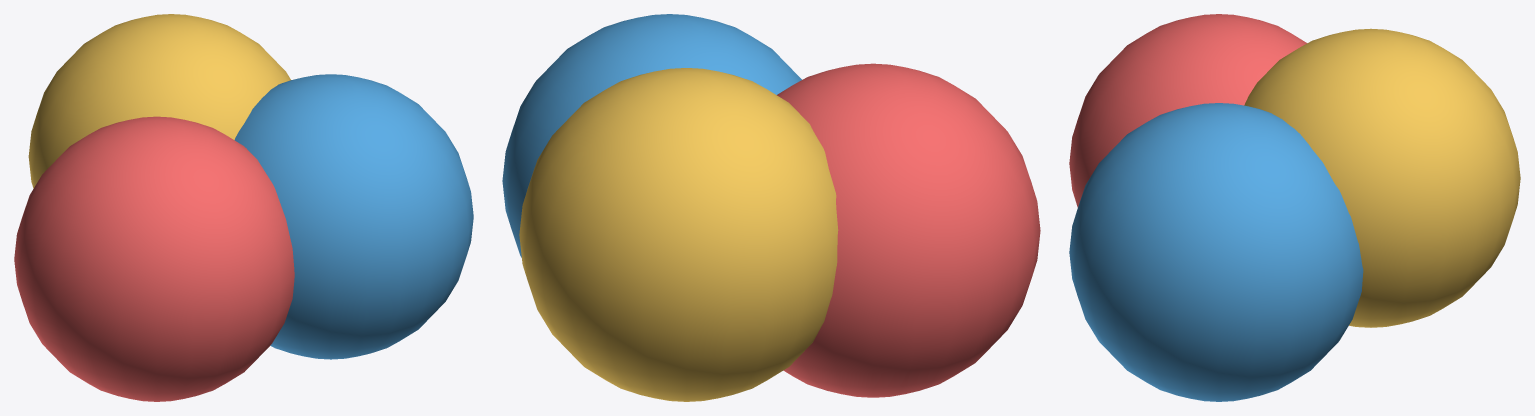
Rendered from proton.glb.
3 renders of one model, left to right at view 1: azimuth 30°, elevation 25°; view 2: azimuth 150°, elevation 25°; view 3: azimuth 270°, elevation 25°, orthographic. The views are drawn at different scales.
Parts seen in each view (by area): view 1: proton_textured_mesh; view 2: proton_textured_mesh; view 3: proton_textured_mesh.
Boxes of the visible parts, <box> form: proton_textured_mesh: <box>14,14,473,401</box>; proton_textured_mesh: <box>502,14,1040,401</box>; proton_textured_mesh: <box>1069,14,1520,401</box>.
Size of the model in its own units: 2.18 by 1.42 by 1.93.
Materials: 1 (1 with a texture image).
